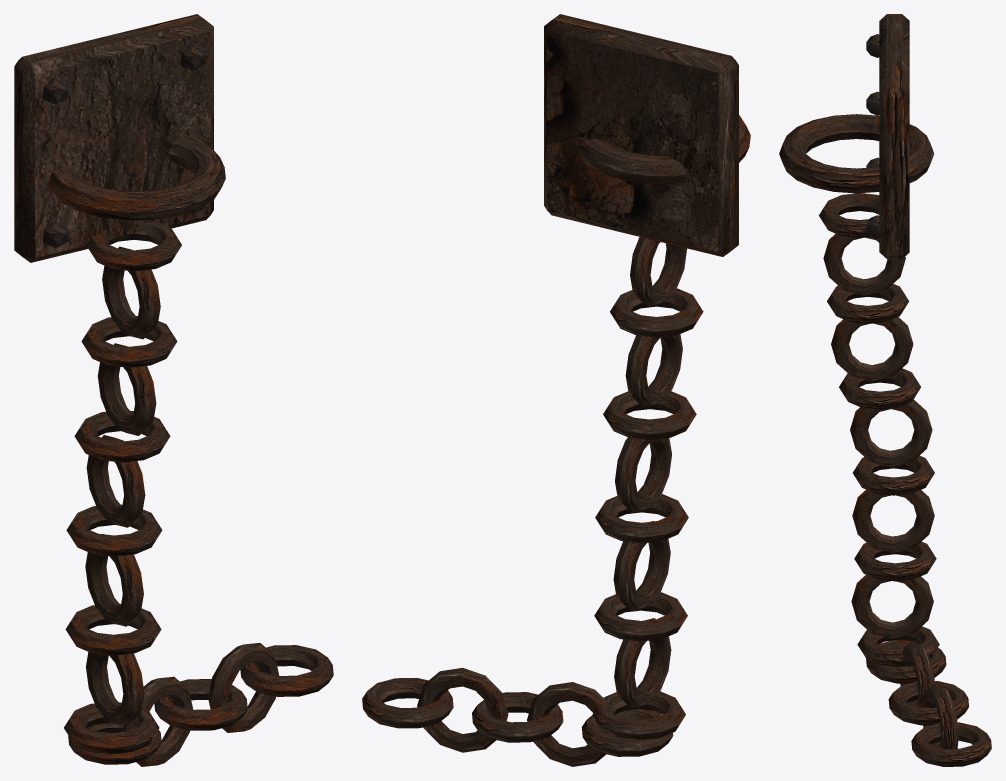
File: chains-v01-photo.glb
The picture shows the model from 3 angles, left to right: view 1: azimuth 30°, elevation 25°; view 2: azimuth 150°, elevation 25°; view 3: azimuth 270°, elevation 25°; orthographic projection. The views are drawn at different scales.
Parts seen in each view (by area): view 1: chains; view 2: chains; view 3: chains.
Boxes of the visible parts, box(x1,y1,x2,y2) form: chains: box(14, 14, 333, 766); chains: box(362, 14, 750, 766); chains: box(779, 14, 991, 766).
Bounding box in the file's own units: 0.8963 × 1.88 × 0.5619.
2 materials, 2 textured.
